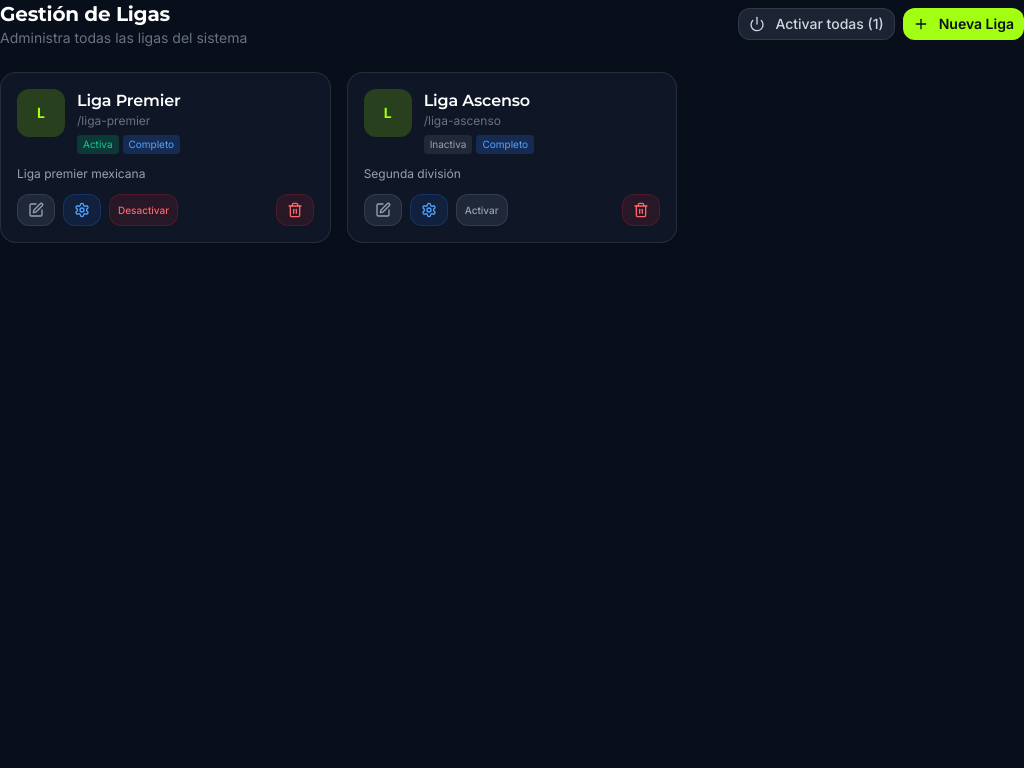
it: Change the admin of a league › assigns another league admin with PUT /leagues/league1/admin
Expected: the heading "Liga Premier" is shown, [77,91,181,110]
Step 1. Click the button named "editar " → click(36, 210), box [17,194,55,226]
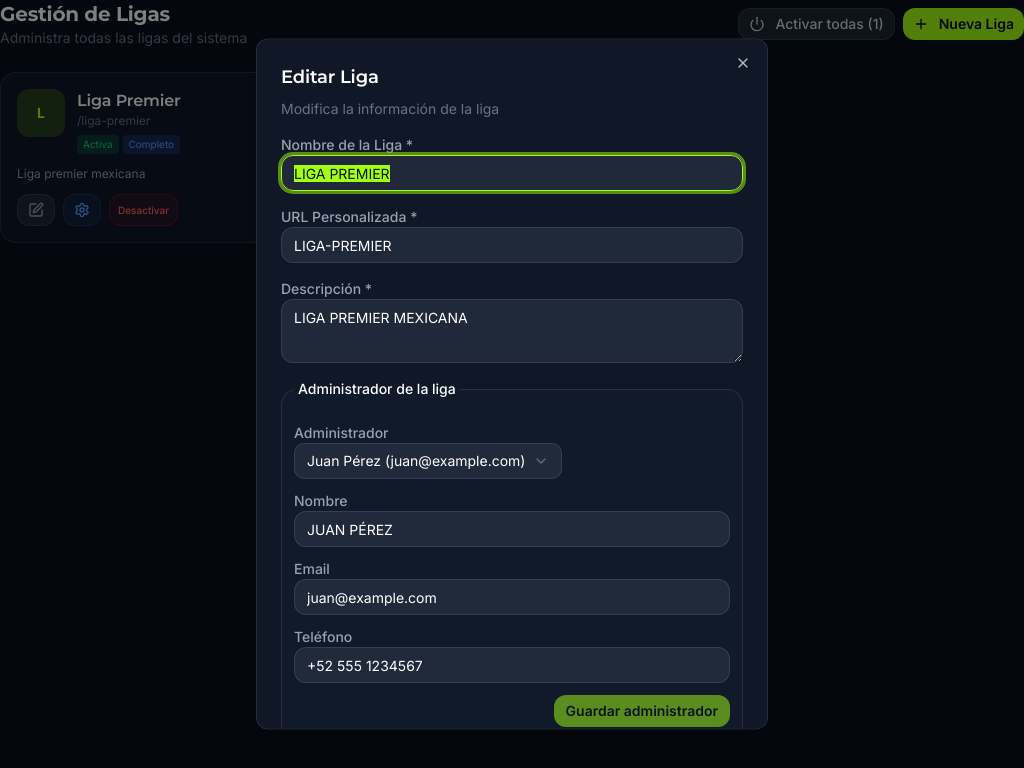
Expected: the field labelled "Email" is shown, [294,579,730,615]
Step 2. Click the dropdown named "Administrador" → click(428, 461), box [294,443,562,479]
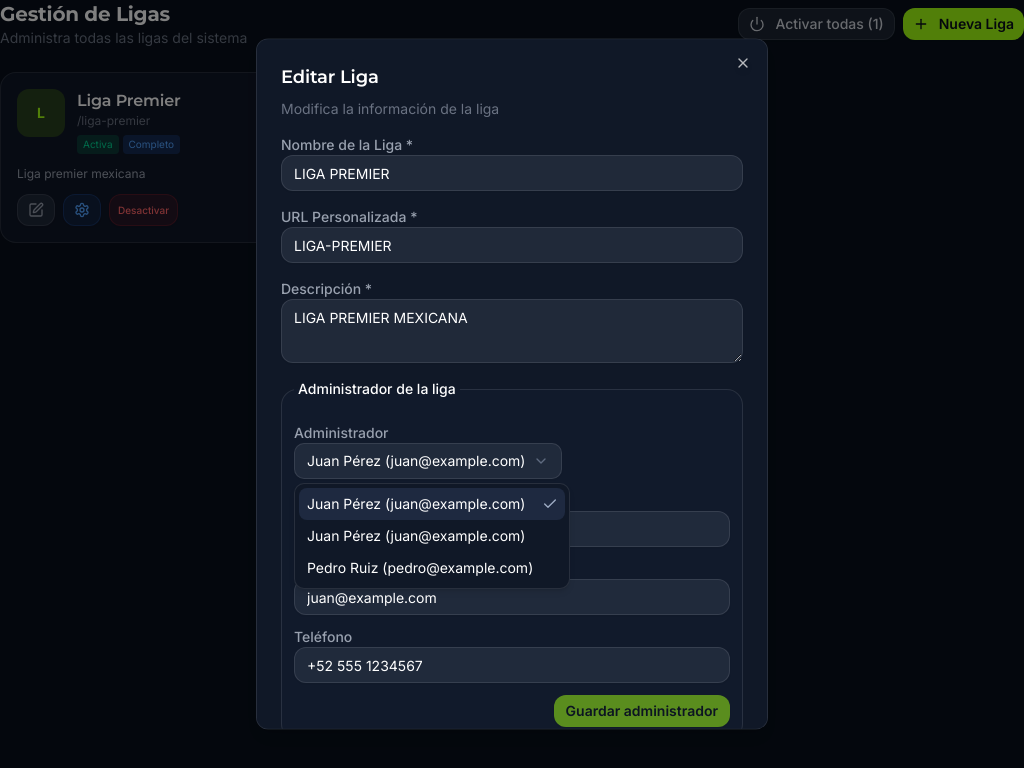
Step 3. Click the option "Pedro Ruiz (pedro@example.com)" → click(420, 568), box [307,559,533,576]
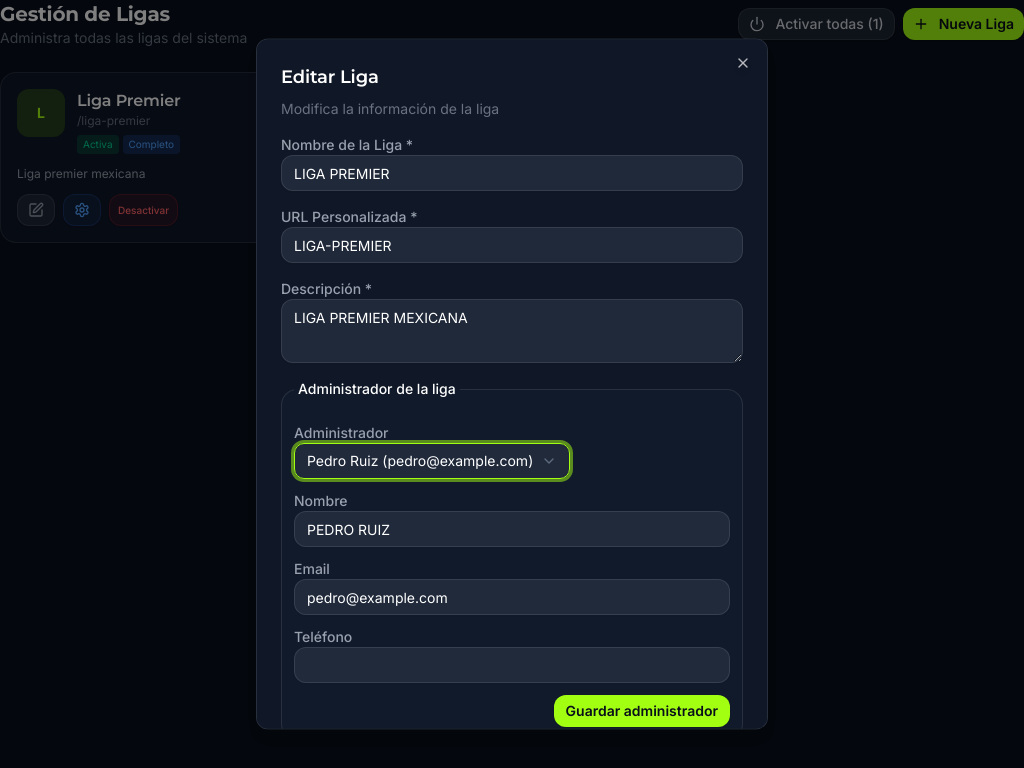
Expected: the field labelled "Email" holds "pedro@example.com", [294,579,730,615]
Step 4. Click the button "Guardar administrador" → click(642, 711), box [554,695,730,727]
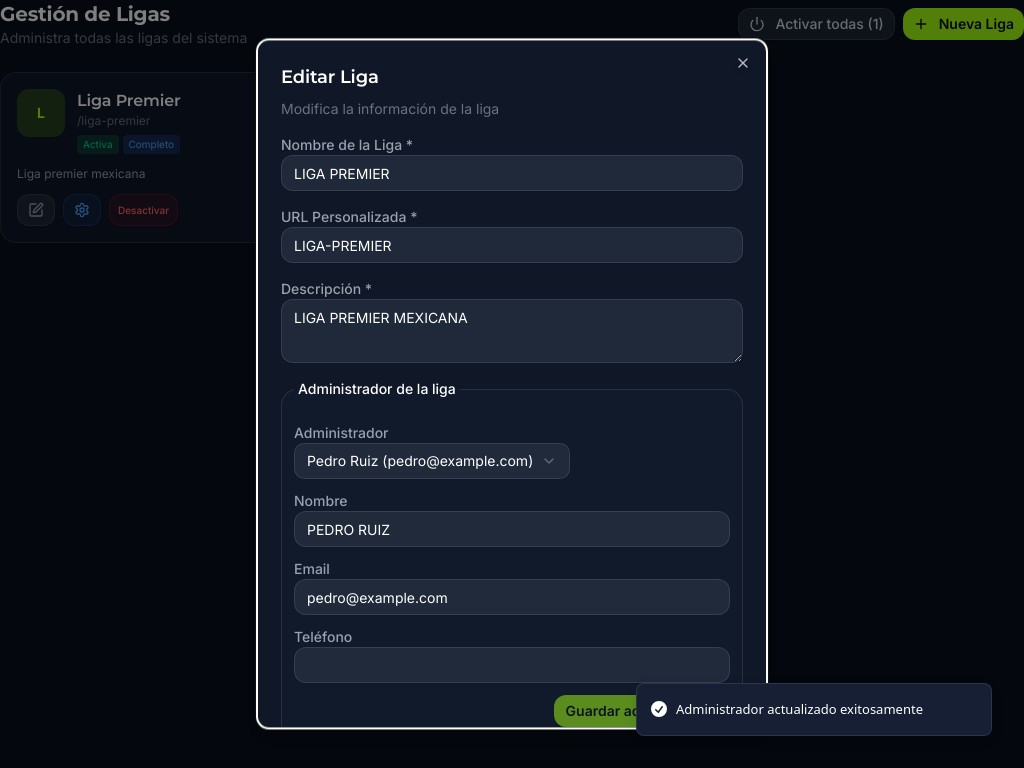
Expected: the text "Administrador actualizado exitosamente" is shown, [676,700,923,719]
